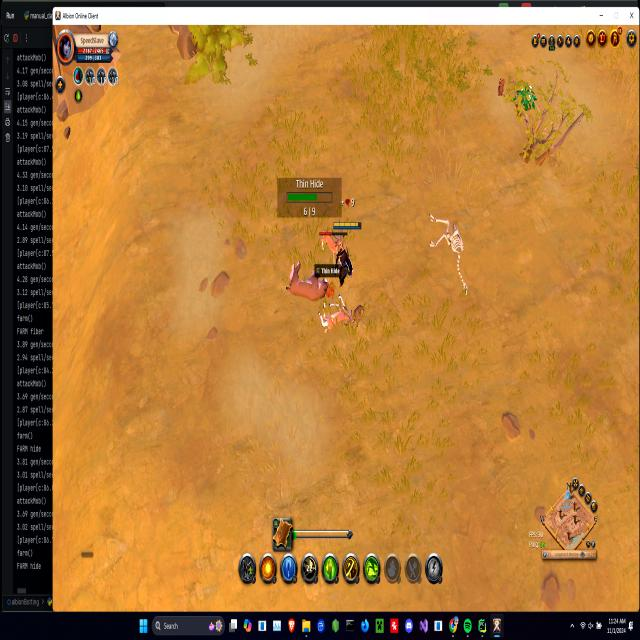hide: (518, 84, 535, 114)
mob: (284, 262, 331, 303), (317, 294, 351, 334)
ore: (316, 227, 348, 265)
red: (330, 218, 360, 289)
